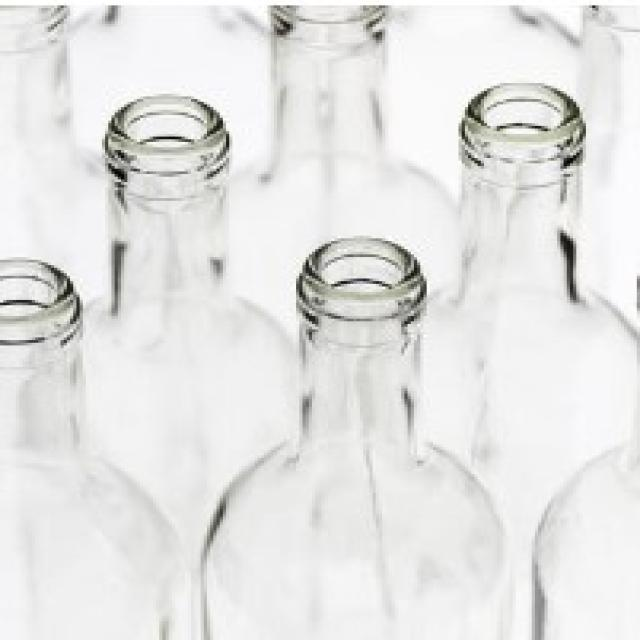electronic: (87, 81, 640, 640)
